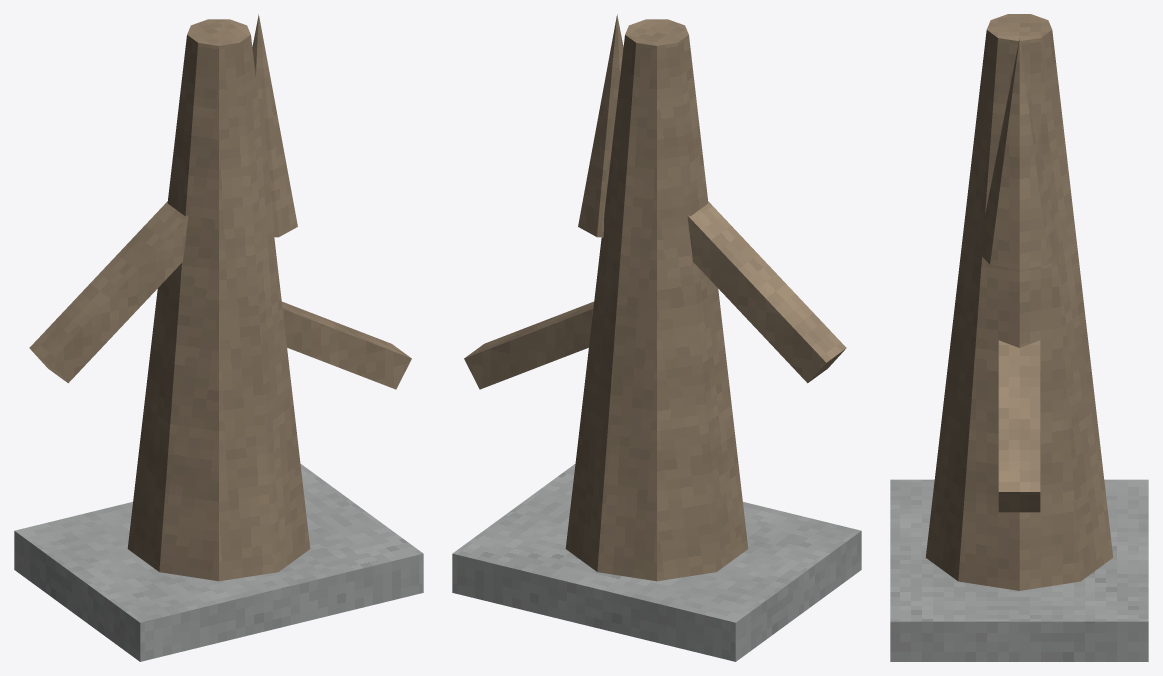
File: level_blockout_marsh_deadwood_snag.glb
3 views of the same model, side by side, from view 1: azimuth 30°, elevation 25°; view 2: azimuth 150°, elevation 25°; view 3: azimuth 270°, elevation 25° (orthographic). The views are drawn at different scales.
Visible parts, largest first — view 1: level_blockout_marsh_deadwood_snag; view 2: level_blockout_marsh_deadwood_snag; view 3: level_blockout_marsh_deadwood_snag.
Boxes of the visible parts, x1,y1,x2,y2 form: level_blockout_marsh_deadwood_snag: (14, 14, 423, 661); level_blockout_marsh_deadwood_snag: (452, 14, 861, 661); level_blockout_marsh_deadwood_snag: (890, 14, 1148, 661).
Bounding box in the file's own units: 1.55 × 2.28 × 0.93.
Materials: 2 (2 with a texture image).
